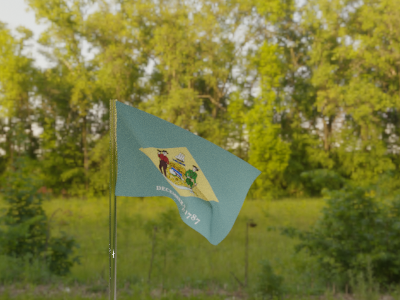Delaware flag: (115, 102, 259, 245)
